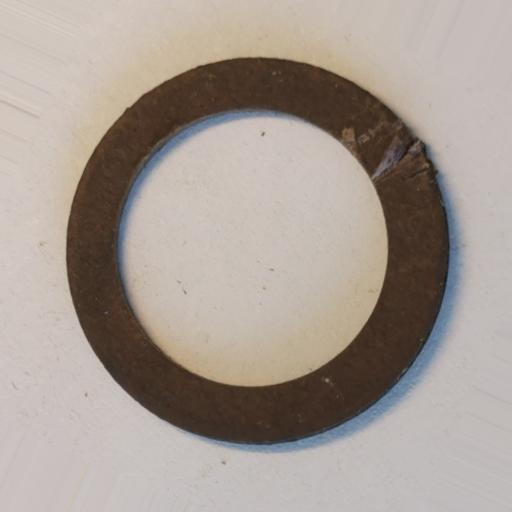defect: (341, 114, 436, 185)
